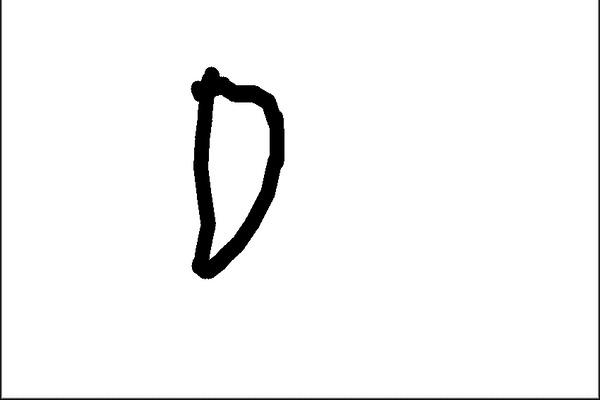D: (181, 61, 296, 284)
